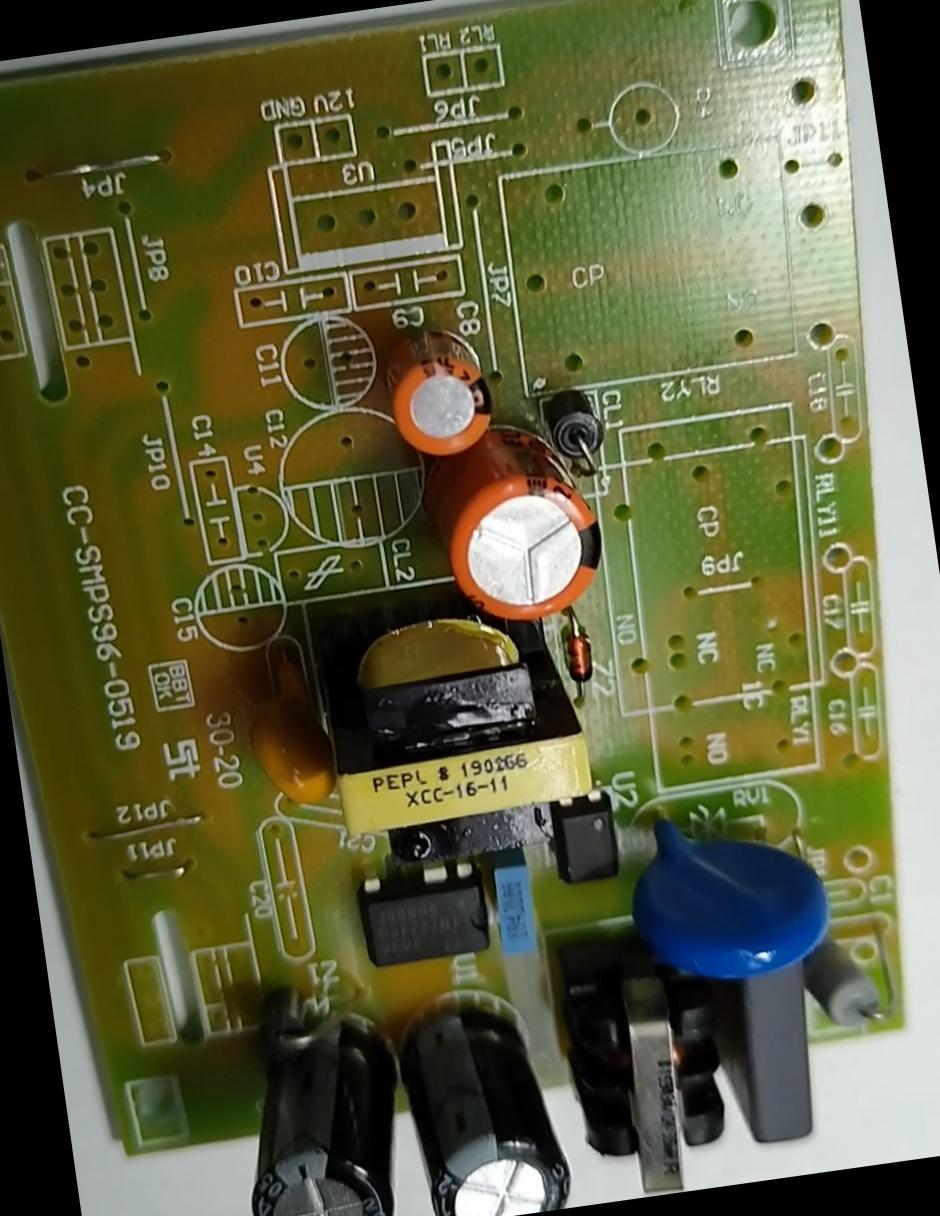Cap1: (424, 415, 616, 634)
Cap2: (381, 320, 504, 465)
Cap3: (381, 986, 575, 1215)
Cap4: (221, 997, 422, 1215)
MOSFET: (350, 845, 500, 977)
Mov: (620, 798, 844, 1002)
Resistor: (801, 936, 900, 1058)
Transformer: (296, 566, 602, 856), (538, 907, 755, 1206)
